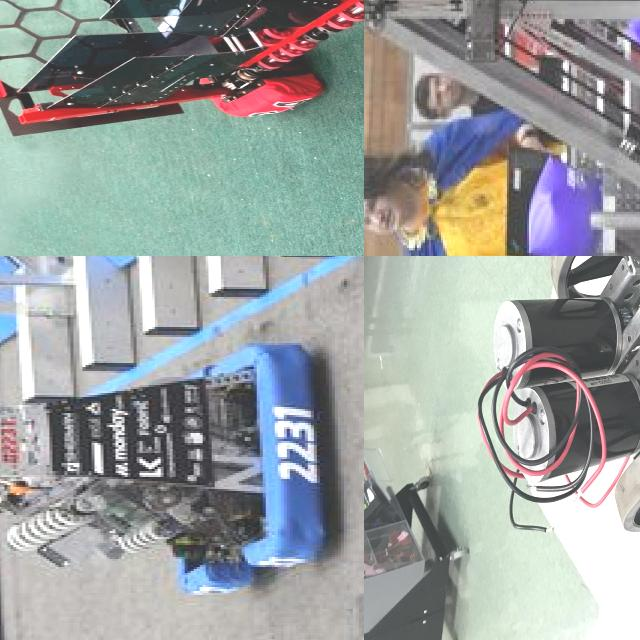FRC-Robots: (0, 322, 344, 634), (364, 0, 640, 256), (477, 256, 640, 601), (0, 0, 364, 135)
